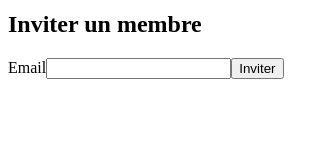
formulaire d'invitation d'un membre (ADR 0011, ADR 0017 §1) › désactive le bouton pendant l'envoi
Type "grace@dezyn.test" into the field labelled "Email" at (139, 68), box 46,58 -> 231,79
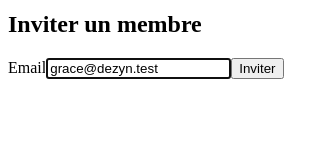
Click the button "Inviter" at (257, 68), box 231,58 -> 284,79
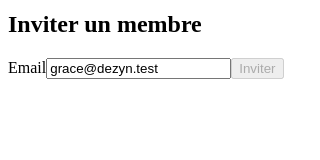
Check: the button "Inviter" is disabled, box 231,58 -> 284,79
